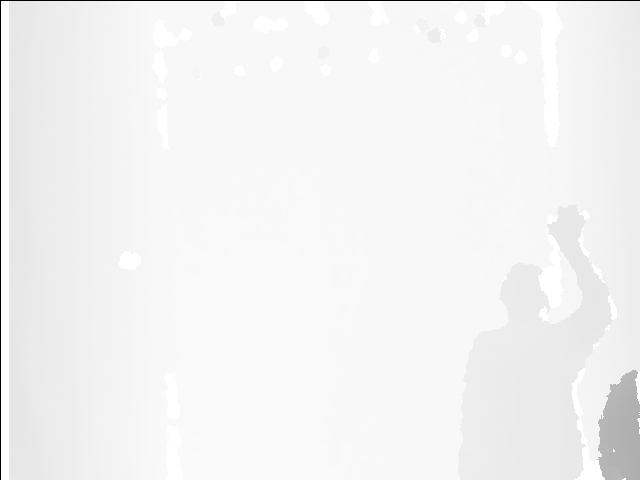hand: (546, 198, 588, 244)
